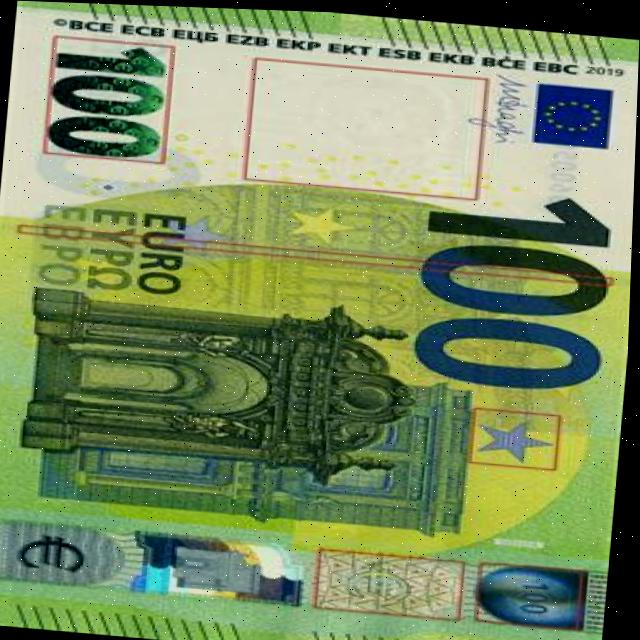banknote: (0, 0, 640, 640), (403, 180, 631, 394), (43, 36, 174, 165), (510, 568, 564, 620)
